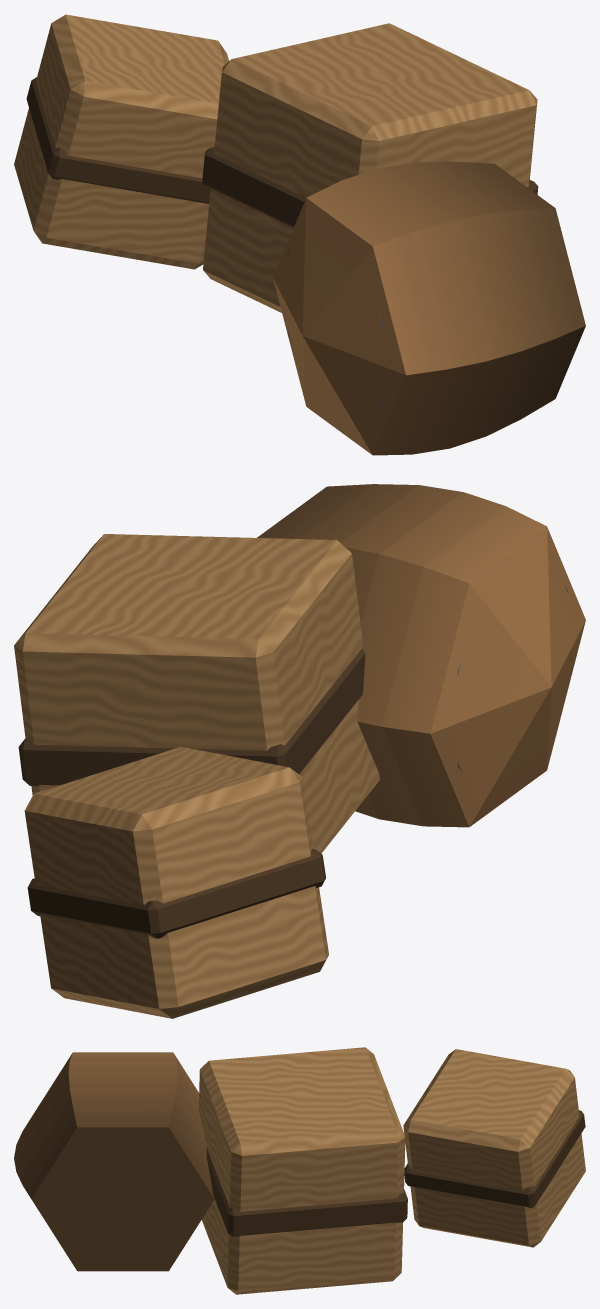
The model's file is FloatingCrates.glb.
3 views of the same model, one above another, from view 1: azimuth 30°, elevation 25°; view 2: azimuth 150°, elevation 25°; view 3: azimuth 270°, elevation 25° (orthographic). The views are drawn at different scales.
Visible parts, largest first — view 1: FloatingCrates; view 2: FloatingCrates; view 3: FloatingCrates.
Boxes of the visible parts, bbox=[...] form: FloatingCrates: bbox=[14, 14, 585, 455]; FloatingCrates: bbox=[14, 484, 585, 1018]; FloatingCrates: bbox=[14, 1047, 585, 1294].
Bounding box in the file's own units: 1.9 × 1.29 × 3.54.
Materials: 1 (1 with a texture image).
